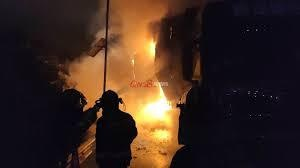fire: (139, 85, 173, 119)
